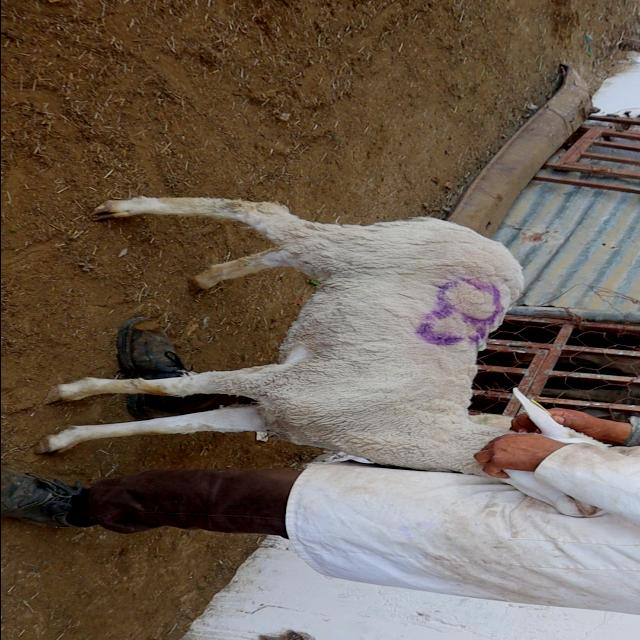Score_2: (36, 196, 523, 475)
